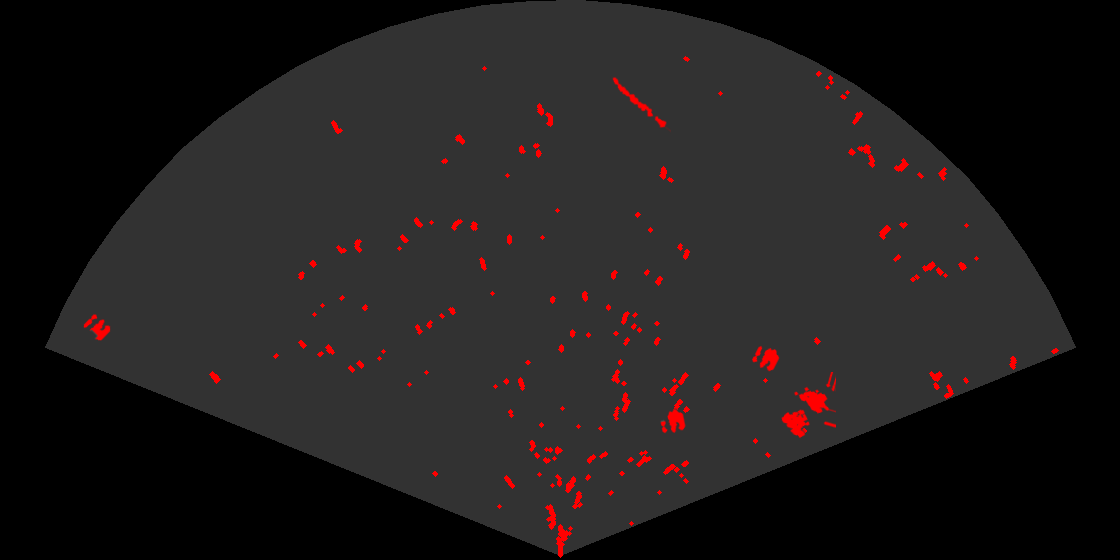ball: (750, 344, 781, 373), (82, 313, 112, 342), (659, 408, 687, 435)
cage: (780, 372, 836, 440)
chain: (610, 75, 671, 134)
